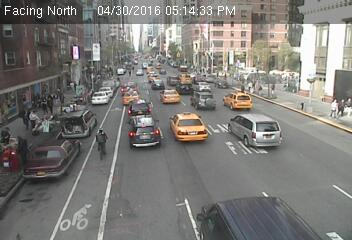neg: (60, 196, 89, 234), (88, 46, 116, 84), (85, 123, 113, 160), (247, 71, 273, 105), (212, 49, 237, 83), (131, 90, 155, 122), (259, 122, 283, 154), (275, 170, 299, 202), (32, 49, 55, 80), (29, 137, 52, 166), (215, 171, 237, 200), (167, 139, 188, 168), (168, 56, 181, 74)
pos: (325, 98, 339, 116), (339, 96, 350, 112)
